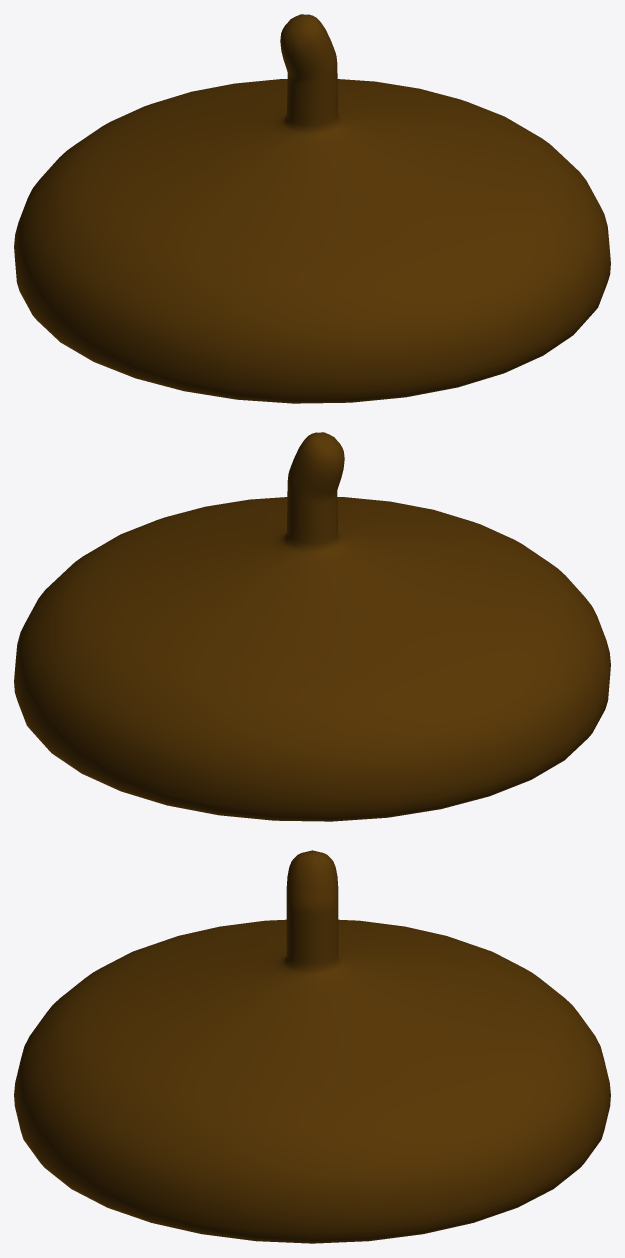
File: SkwurlCap.fbx
The picture shows the model from 3 angles, top to bottom: view 1: azimuth 30°, elevation 25°; view 2: azimuth 150°, elevation 25°; view 3: azimuth 270°, elevation 25°; orthographic projection.
Visible parts, largest first — view 1: Circle; view 2: Circle; view 3: Circle.
Part boxes in pixels (x1,y1,x2,y2): Circle: (14, 14, 610, 403); Circle: (14, 432, 610, 821); Circle: (14, 850, 610, 1243).
Bounding box in the file's own units: 1.8 × 0.8886 × 1.8.
